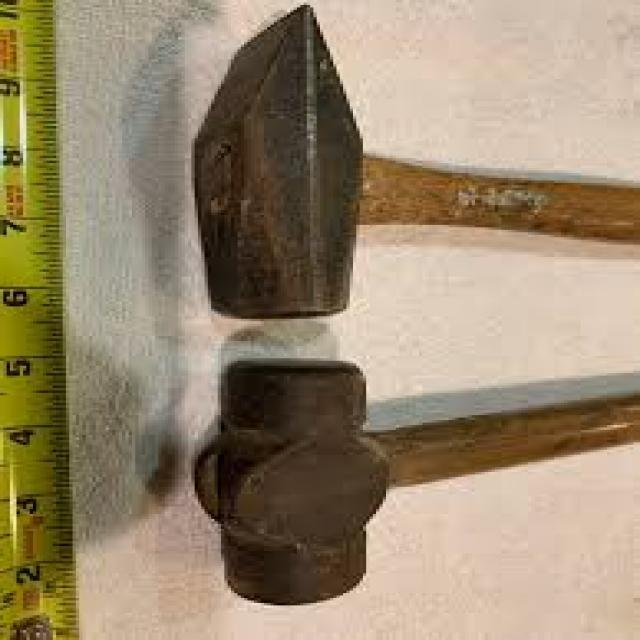hammer: (171, 5, 640, 336), (184, 356, 640, 613)
